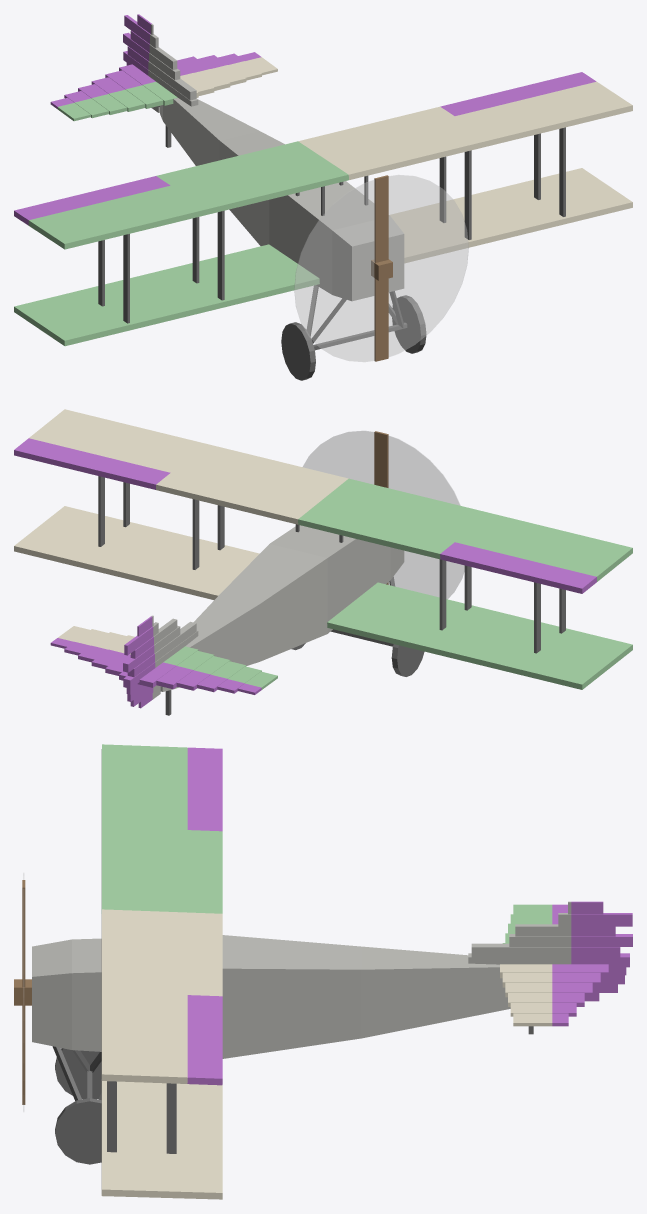
The picture shows the model from 3 angles, top to bottom: view 1: azimuth 30°, elevation 25°; view 2: azimuth 150°, elevation 25°; view 3: azimuth 270°, elevation 25°; orthographic projection. The views are drawn at different scales.
Parts seen in each view (by area): view 1: body, prop_blur, prop, ctrl_elevator, ctrl_aileron_r_upper, ctrl_aileron_l_upper, ctrl_rudder; view 2: body, prop_blur, ctrl_elevator, ctrl_aileron_r_upper, ctrl_aileron_l_upper, ctrl_rudder, prop; view 3: body, ctrl_rudder, ctrl_aileron_l_upper, ctrl_aileron_r_upper, ctrl_elevator, prop.
Part boxes in pixels (x1,y1,x2,y2): body: (14,24,632,380); prop_blur: (294,175,468,361); prop: (371,175,392,361); ctrl_elevator: (50,52,261,108); ctrl_aileron_r_upper: (14,176,170,225); ctrl_aileron_l_upper: (440,72,596,115); ctrl_rudder: (123,14,151,75); body: (14,409,632,715); prop_blur: (303,431,464,598); ctrl_elevator: (50,638,261,694); ctrl_aileron_r_upper: (440,542,596,593); ctrl_aileron_l_upper: (14,438,170,489); ctrl_rudder: (123,616,155,708); prop: (374,431,388,584); body: (32,744,571,1199); ctrl_rudder: (571,901,632,1001); ctrl_aileron_l_upper: (187,995,222,1085); ctrl_aileron_r_upper: (187,747,222,831); ctrl_elevator: (552,904,608,1026); prop: (14,880,31,1104).
Bounding box in the file's own units: 7.82 × 2.73 × 6.2.
